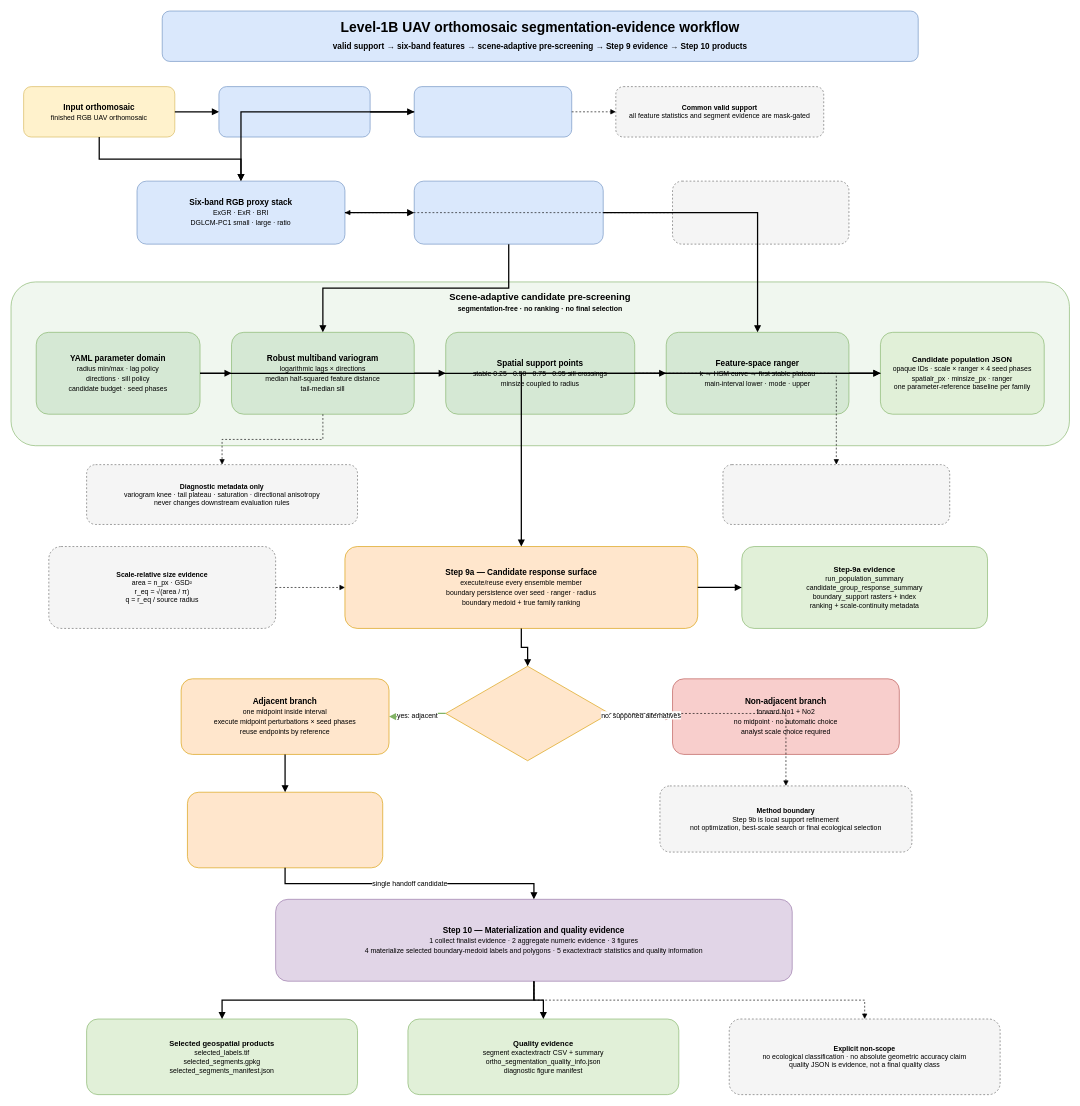
This 1080x1106 diagram has some shape labels left out. The centre of each missing label's shape, as x and y in pixels:
"Gain-share handoff (SM − S2) / (S1 − S2) > 0.5 → midpoint ≤ 0.5 → retain No1" goes at point 285,830.
"Preflight input, OTB/GDAL/R and output layout" goes at point 294,111.
"RGB-PC1 internal DGLCM source only not a separate workflow branch" goes at point 760,212.
"Robust mask-aware scaling valid-pixel 2–98 % range scaled feature stack [-1, 1]" goes at point 508,212.
"Spatial coupling area = π · radius² minsize_px = round(area / pixel_area)" goes at point 836,494.
"Step 9b Are No1 and No2 adjacent in explicit scale space?" goes at point 527,713.
"Valid observation mask one common analysis domain" goes at point 493,111.
